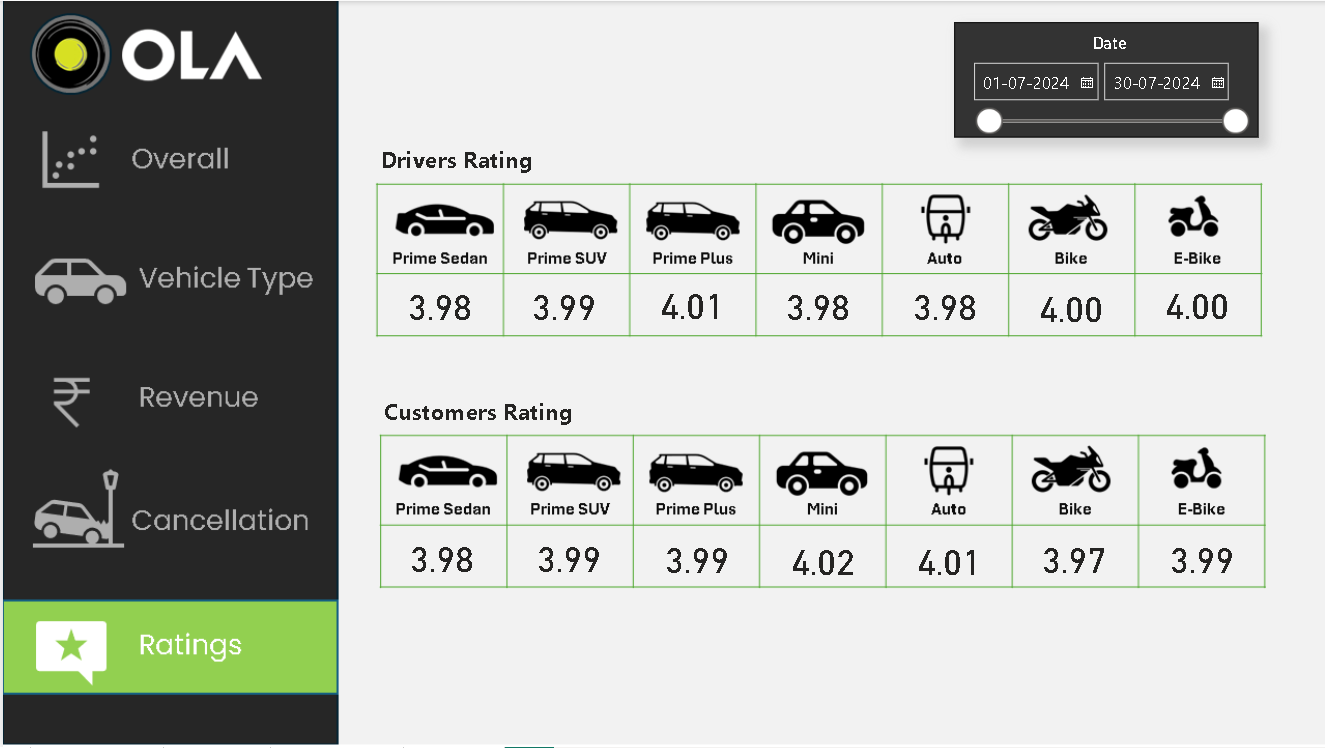

Layout of this report page (visuals, bound fields, positions):
{"tool":"powerbi","page":{"name":"Ratings","canvas":[1280,720],"ordinal":4},"visuals":[{"type":"actionButton","box":[0,109.6,323.2,89.5],"z":0},{"type":"actionButton","box":[0,222.2,323.2,89.5],"z":1000},{"type":"actionButton","box":[0,339,323.2,89.5],"z":2000},{"type":"actionButton","box":[0,451.6,323.2,89.5],"z":3000},{"type":"card","fields":{"Values":["Avg(Bookings.Driver_Ratings)"]},"box":[360.7,266.6,121.9,53.1],"z":3001},{"type":"card","fields":{"Values":["Avg(Bookings.Driver_Ratings)"]},"box":[481.4,267,121.3,52.7],"z":3002},{"type":"card","fields":{"Values":["Avg(Bookings.Driver_Ratings)"]},"box":[604.4,266.6,121.9,51.9],"z":3003},{"type":"card","fields":{"Values":["Avg(Bookings.Driver_Ratings)"]},"box":[726.3,267.8,121.9,51.9],"z":3004},{"type":"card","fields":{"Values":["Avg(Bookings.Driver_Ratings)"]},"box":[848.1,267.8,121.9,51.9],"z":3005},{"type":"card","fields":{"Values":["Avg(Bookings.Driver_Ratings)"]},"box":[970,269,121.9,51.9],"z":3006},{"type":"card","fields":{"Values":["Avg(Bookings.Driver_Ratings)"]},"box":[1091.8,266.6,121.9,51.9],"z":3007},{"type":"card","fields":{"Values":["Avg(Bookings.Customer_Rating)"]},"box":[363.1,510.3,121.9,53.1],"z":3008},{"type":"card","fields":{"Values":["Avg(Bookings.Customer_Rating)"]},"box":[486.3,510.8,121.3,52.7],"z":3009},{"type":"card","fields":{"Values":["Avg(Bookings.Customer_Rating)"]},"box":[608.8,512,121.3,52.7],"z":3010},{"type":"card","fields":{"Values":["Avg(Bookings.Customer_Rating)"]},"box":[731.3,513.2,121.3,52.7],"z":3011},{"type":"card","fields":{"Values":["Avg(Bookings.Customer_Rating)"]},"box":[852.5,513.2,121.3,52.7],"z":3012},{"type":"card","fields":{"Values":["Avg(Bookings.Customer_Rating)"]},"box":[973.8,512,121.3,52.7],"z":3013},{"type":"card","fields":{"Values":["Avg(Bookings.Customer_Rating)"]},"box":[1096.3,512,121.3,52.7],"z":3014},{"type":"textbox","box":[360.1,132.3,180.1,42.9],"z":3015},{"type":"textbox","box":[362.6,374.8,209.5,44.1],"z":3016},{"type":"slicer","title":"Date","fields":{"Values":["Bookings1.Date"]},"box":[918.7,20.8,294,111.5],"z":3017}]}

Visuals, with their boxes in screenshot pixels (x1, y1, x2, y2), scaled from the page's 1280x720 canvas onto the 1325x748 screenshot:
actionButton: 0,114,335,207
actionButton: 0,231,335,324
actionButton: 0,352,335,445
actionButton: 0,469,335,562
card - Avg(Bookings.Driver_Ratings): 373,277,500,332
card - Avg(Bookings.Driver_Ratings): 498,277,624,332
card - Avg(Bookings.Driver_Ratings): 626,277,752,331
card - Avg(Bookings.Driver_Ratings): 752,278,878,332
card - Avg(Bookings.Driver_Ratings): 878,278,1004,332
card - Avg(Bookings.Driver_Ratings): 1004,279,1130,333
card - Avg(Bookings.Driver_Ratings): 1130,277,1256,331
card - Avg(Bookings.Customer_Rating): 376,530,502,585
card - Avg(Bookings.Customer_Rating): 503,531,629,585
card - Avg(Bookings.Customer_Rating): 630,532,756,587
card - Avg(Bookings.Customer_Rating): 757,533,883,588
card - Avg(Bookings.Customer_Rating): 882,533,1008,588
card - Avg(Bookings.Customer_Rating): 1008,532,1134,587
card - Avg(Bookings.Customer_Rating): 1135,532,1260,587
textbox: 373,137,559,182
textbox: 375,389,592,435
"Date" slicer: 951,22,1255,137
